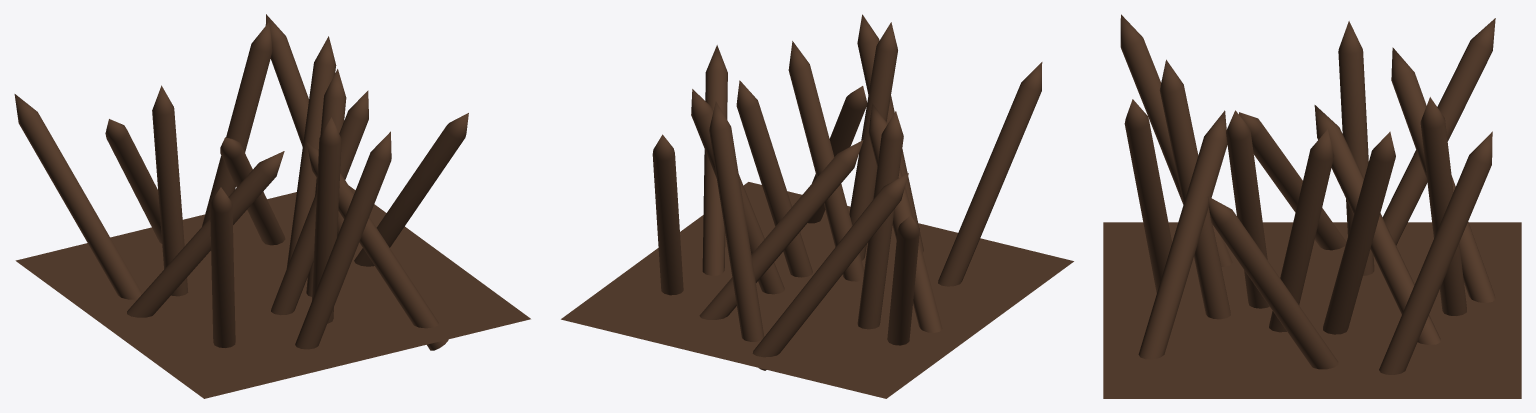
Rendered from Spikes5.fbx.
3 renders of one model, left to right at view 1: azimuth 30°, elevation 25°; view 2: azimuth 150°, elevation 25°; view 3: azimuth 270°, elevation 25°, orthographic. The views are drawn at different scales.
Parts seen in each view (by area): view 1: spikes5; view 2: spikes5; view 3: spikes5.
Part boxes in pixels (<box>): spikes5: <box>14,14,530,398</box>; spikes5: <box>561,14,1073,398</box>; spikes5: <box>1103,14,1521,398</box>.
Size of the model in its own units: 261 by 183 by 250.
